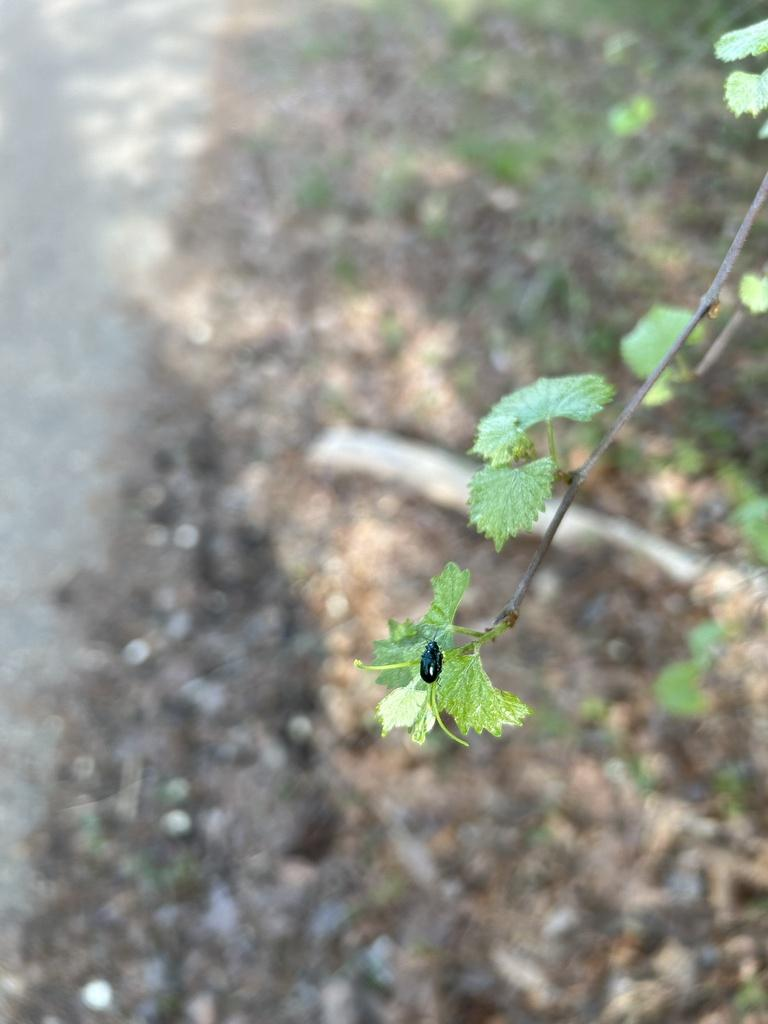flea_beetle: (399, 619, 464, 697)
